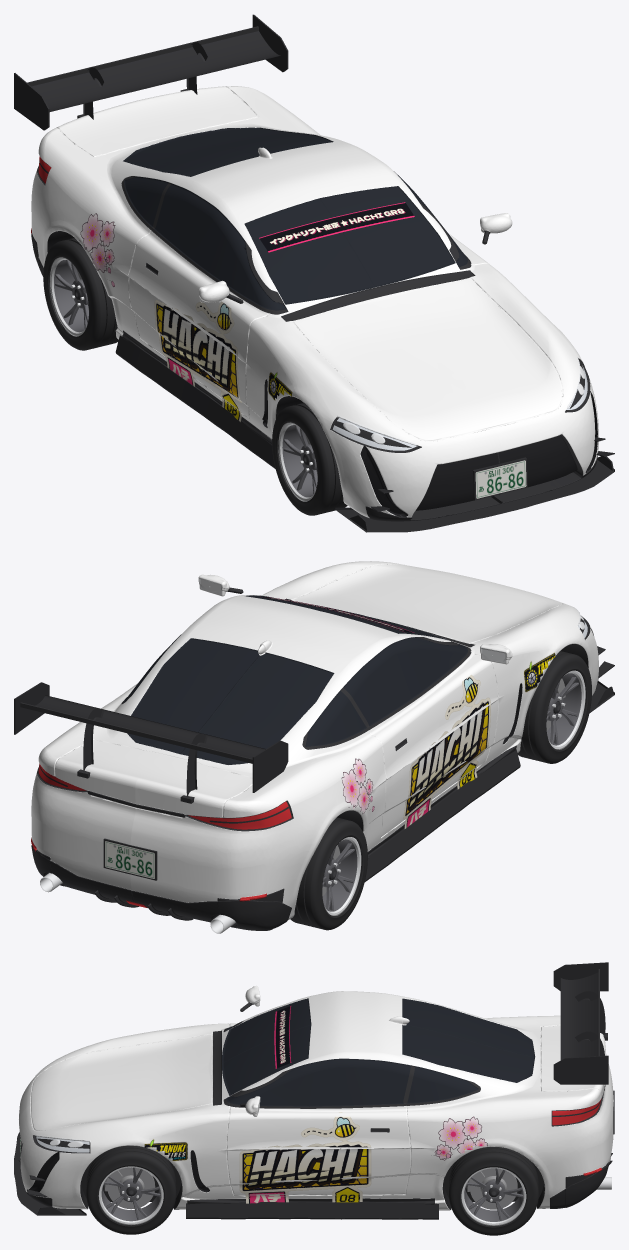
Rendered from hachi.fbx.
3 views of the same model, one above another, from view 1: azimuth 30°, elevation 25°; view 2: azimuth 150°, elevation 25°; view 3: azimuth 270°, elevation 25° (orthographic). The views are drawn at different scales.
Visible parts, largest first — view 1: Body, Wheel_RR, Wheel_FR; view 2: Body, Wheel_RR, Wheel_FR; view 3: Body, Wheel_RL, Wheel_FL.
Boxes of the visible parts, left/top/right/bottom form: Body: left=14, top=14, right=614, bottom=532; Wheel_RR: left=43, top=238, right=118, bottom=350; Wheel_FR: left=272, top=403, right=347, bottom=515; Body: left=14, top=561, right=614, bottom=933; Wheel_RR: left=290, top=817, right=367, bottom=930; Wheel_FR: left=517, top=651, right=591, bottom=763; Body: left=14, top=962, right=614, bottom=1219; Wheel_RL: left=449, top=1147, right=538, bottom=1235; Wheel_FL: left=86, top=1145, right=176, bottom=1234.
Size of the model in its own units: 2.04 by 1.37 by 4.27.
14 materials, 2 textured.
